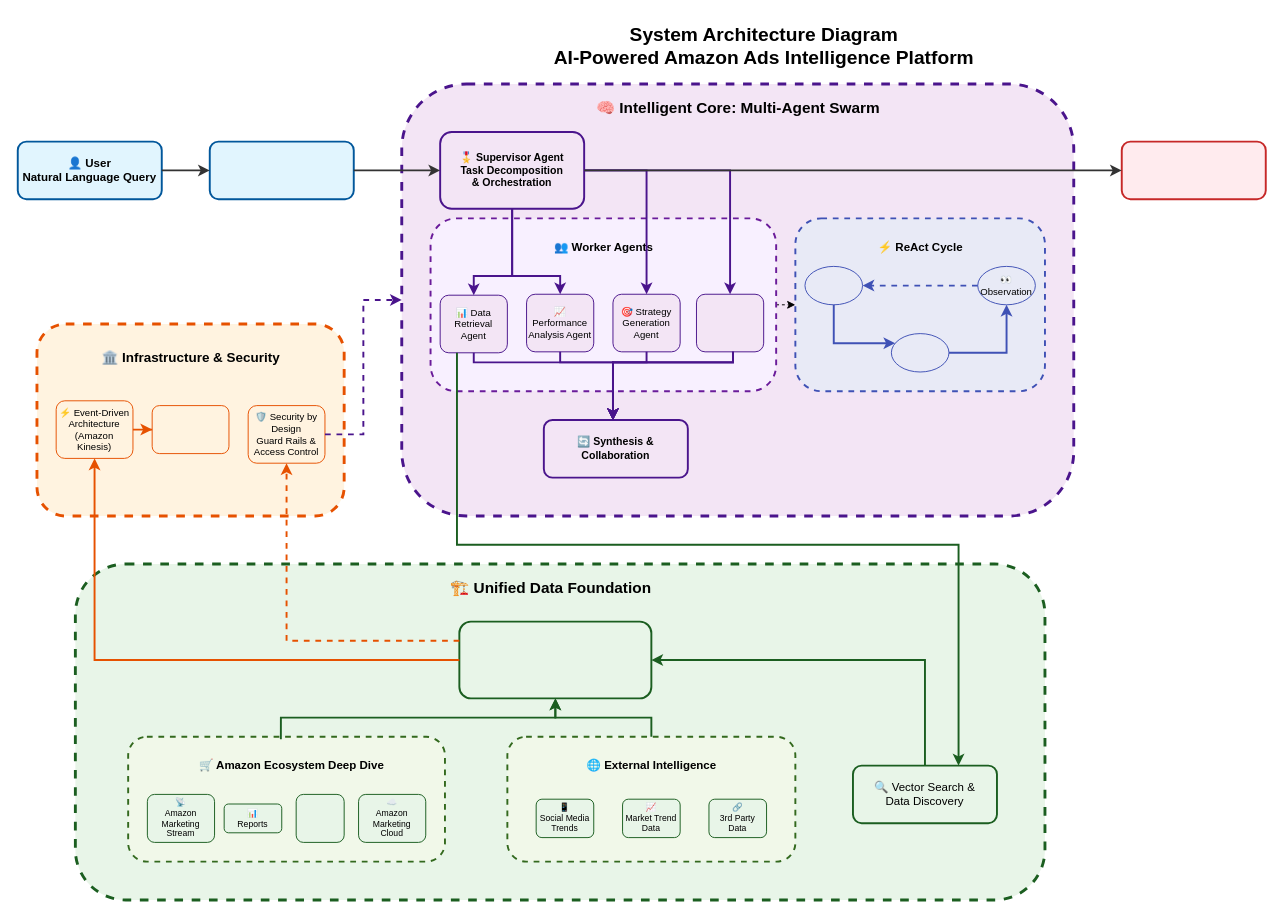
Some shapes in this 1283 by 918 pixel diagram are drawn without their labels. Each missing label, with the box of its shape:
⏱️ Real-time Intelligence: (151, 405, 229, 454)
☁️ Scalable Big Data Platform Cloud-based Processing: (458, 620, 652, 699)
⚡ Action: (890, 333, 949, 372)
✨ Actionable Strategy & Recommendations: (1120, 140, 1266, 200)
🎯 Query Interface Input Processing: (208, 140, 354, 200)
📋 Reporting Agent: (696, 293, 764, 352)
🔌 Seller Partner API: (295, 793, 344, 842)
🤔 Thought: (804, 265, 863, 305)
